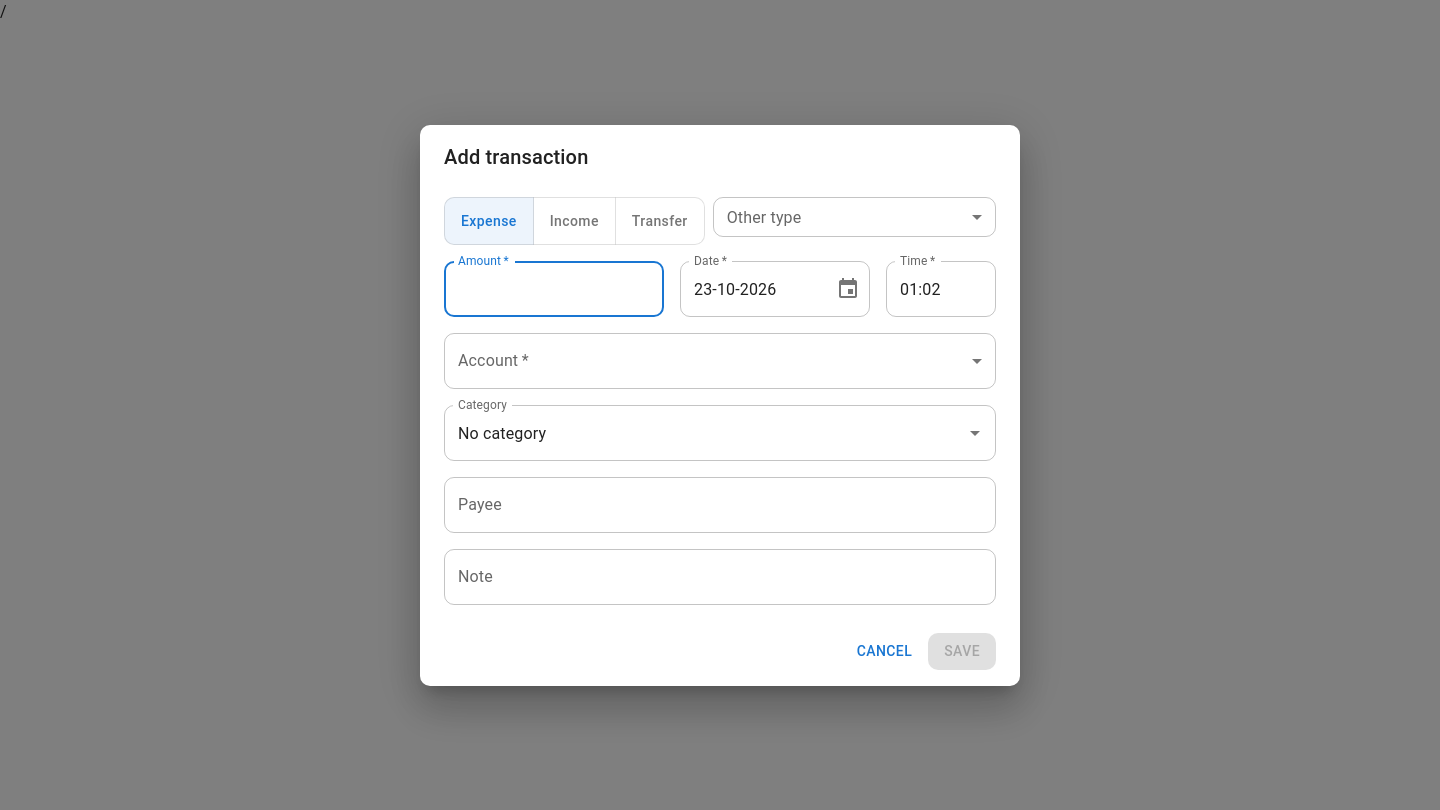
Test case: filling in from my own history (waterflow#65) › fills in the account, category and payee for the amount typed
Type "5000" into the field labelled "Amount *" at (554, 289), box [444, 261, 664, 317]
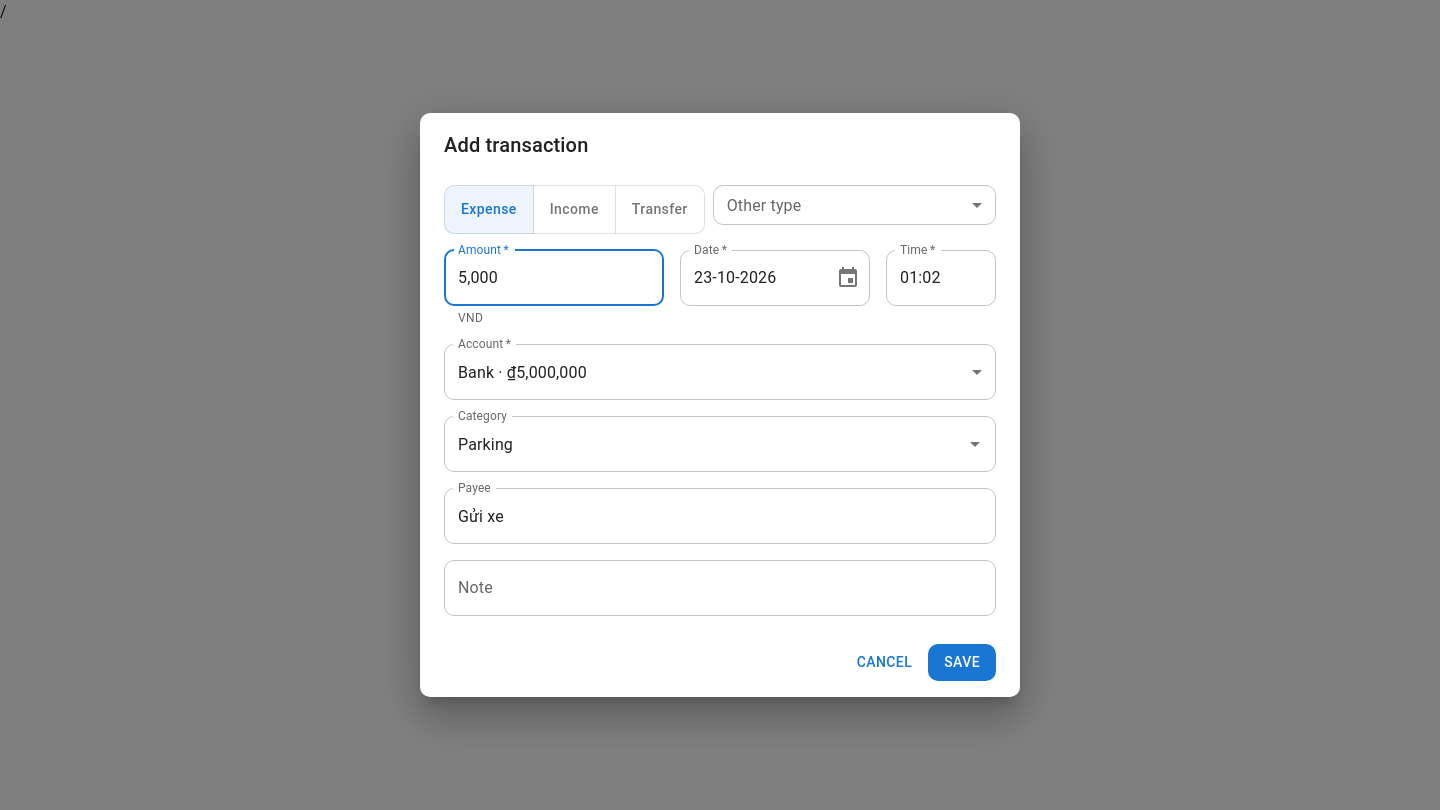
Check: the field showing "Gửi xe" is shown, box [444, 488, 996, 544]
Check: the dropdown named "Account" shows "Bank", box [458, 363, 587, 382]
Check: the dropdown labelled "Category" holds "Parking", box [453, 426, 931, 464]
